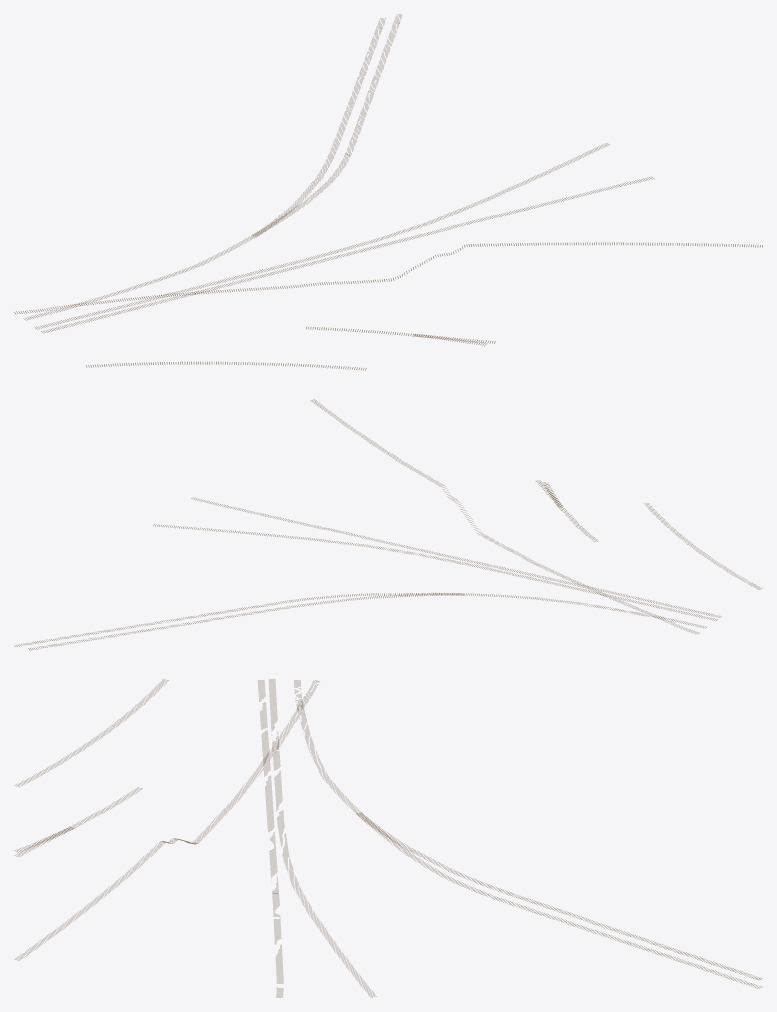
The model's file is c_1629_17822_rail_sleeper.glb.
3 renders of one model, top to bottom at view 1: azimuth 30°, elevation 25°; view 2: azimuth 150°, elevation 25°; view 3: azimuth 270°, elevation 25°, orthographic. The views are drawn at different scales.
Visible parts, largest first — view 1: geometry_0; view 2: geometry_0; view 3: geometry_0.
Part boxes in pixels (left/top/right/bottom): geometry_0: left=14, top=14, right=762, bottom=370; geometry_0: left=14, top=399, right=762, bottom=650; geometry_0: left=14, top=679, right=762, bottom=997.
Bounding box in the file's own units: 257 × 13.73 × 257.
